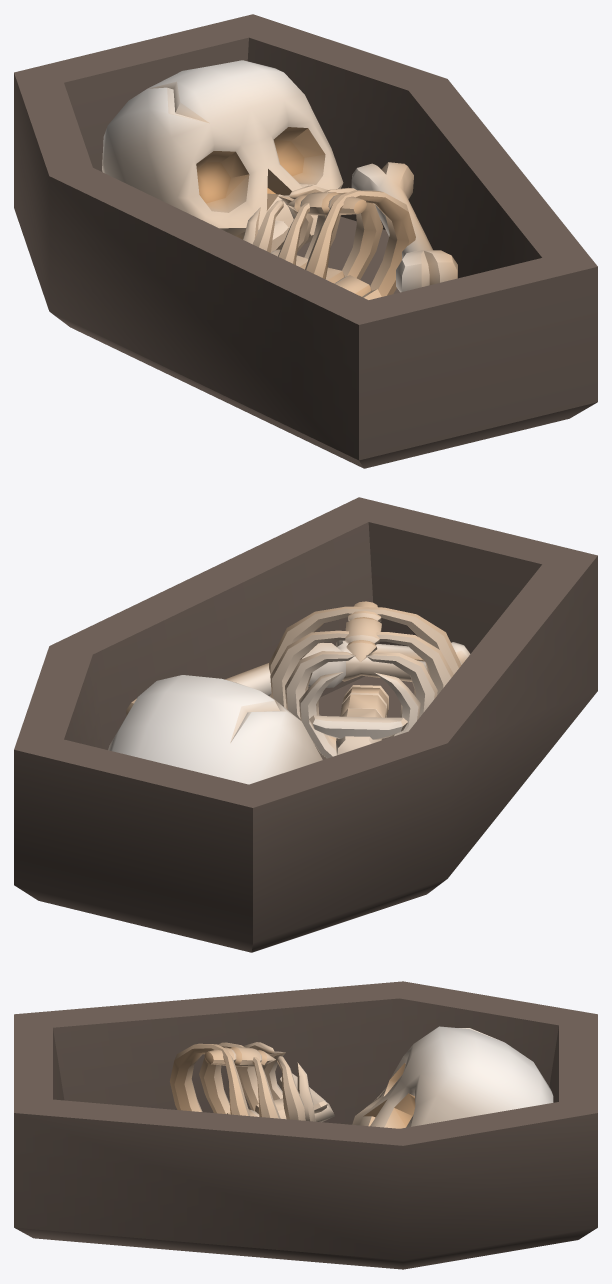
Rendered from coffin_decorated.glb.
The picture shows the model from 3 angles, top to bottom: view 1: azimuth 30°, elevation 25°; view 2: azimuth 150°, elevation 25°; view 3: azimuth 270°, elevation 25°; orthographic projection. The views are drawn at different scales.
Visible parts, largest first — view 1: coffin_decorated; view 2: coffin_decorated; view 3: coffin_decorated.
Part boxes in pixels (bbox=[...]): coffin_decorated: bbox=[14, 14, 597, 468]; coffin_decorated: bbox=[14, 497, 597, 952]; coffin_decorated: bbox=[14, 981, 597, 1269].
Bounding box in the file's own units: 2 × 0.9025 × 3.
Materials: 1 (1 with a texture image).
